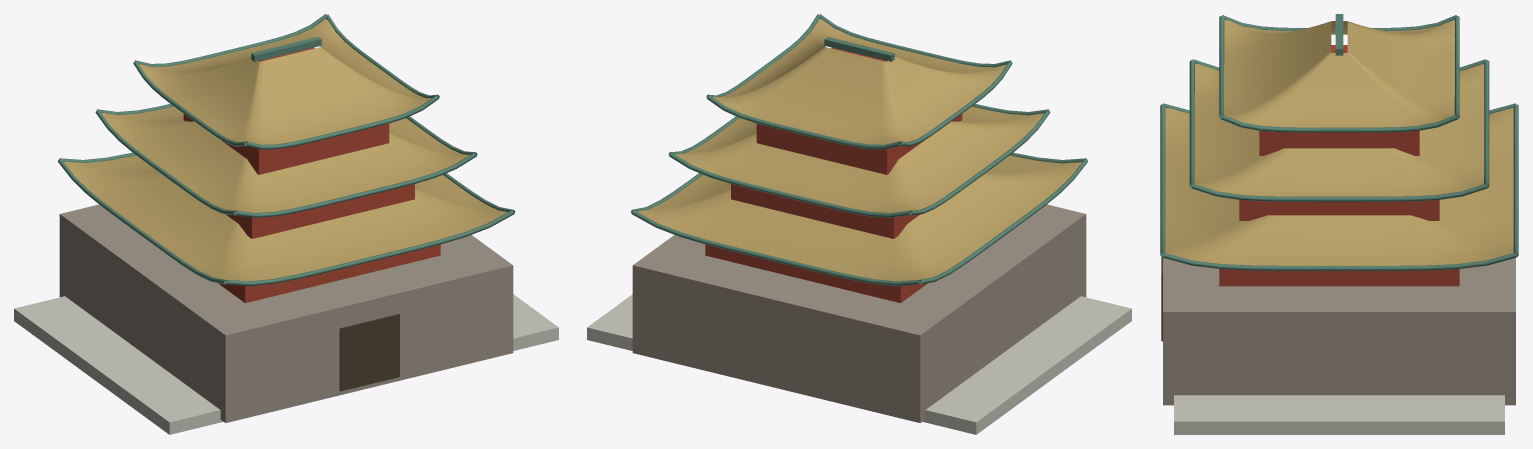
Rendered from xian_detail.glb.
3 renders of one model, left to right at view 1: azimuth 30°, elevation 25°; view 2: azimuth 150°, elevation 25°; view 3: azimuth 270°, elevation 25°, orthographic. The views are drawn at different scales.
Parts seen in each view (by area): view 1: high square base, triple eaves, triple eaves.002, triple eaves.001, stone plinth, front tunnel shadow, timber floor.002, timber floor.001, timber floor, green glazed edge, green glazed edge.004, green glazed edge.008 (+6 smaller); view 2: high square base, triple eaves, triple eaves.002, triple eaves.001, stone plinth, timber floor.002, timber floor.001, timber floor, green glazed edge.002, green glazed edge.006, green glazed edge.010, green glazed edge.003 (+5 smaller); view 3: high square base, triple eaves, triple eaves.002, triple eaves.001, stone plinth, timber floor, timber floor.001, timber floor.002, green glazed edge.001, green glazed edge.005, green glazed edge.009, green glazed edge (+7 smaller).
Part boxes in pixels (x1,y1,x2,y2): high square base: (59,204,513,422); triple eaves: (64,155,507,282); triple eaves.002: (139,19,431,144); triple eaves.001: (101,106,469,213); stone plinth: (14,294,558,434); front tunnel shadow: (339,314,399,391); timber floor.002: (183,47,389,174); timber floor.001: (226,184,414,238); timber floor: (218,244,440,303); green glazed edge: (224,210,514,286); green glazed edge.004: (234,152,476,217); green glazed edge.008: (244,95,438,149); high square base: (632,204,1086,422); triple eaves: (637,155,1081,282); triple eaves.002: (713,18,1006,144); triple eaves.001: (675,106,1044,213); stone plinth: (587,294,1131,434); timber floor.002: (756,47,962,174); timber floor.001: (731,184,919,238); timber floor: (705,244,927,303); green glazed edge.002: (631,210,921,286); green glazed edge.006: (669,152,911,217); green glazed edge.010: (707,95,901,149); green glazed edge.003: (919,159,1088,284); high square base: (1163,258,1515,405); triple eaves: (1165,107,1513,265); triple eaves.002: (1221,19,1457,127); triple eaves.001: (1192,63,1486,196); stone plinth: (1174,395,1504,434); timber floor: (1219,269,1459,286); timber floor.001: (1239,200,1439,220); timber floor.002: (1259,45,1419,155); green glazed edge.001: (1162,253,1516,270); green glazed edge.005: (1191,183,1487,201); green glazed edge.009: (1220,114,1458,132); green glazed edge: (1160,104,1165,257).
Size of the model in its own units: 6.5 by 4.54 by 4.87.
